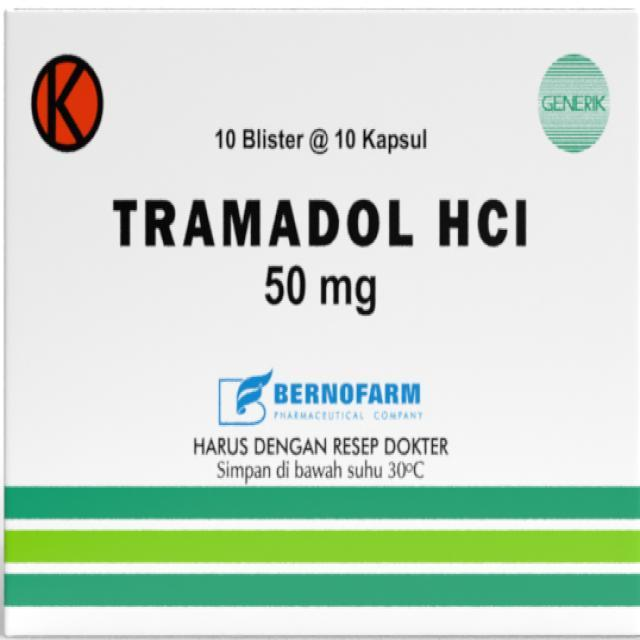drug-name: (212, 366, 438, 426)
